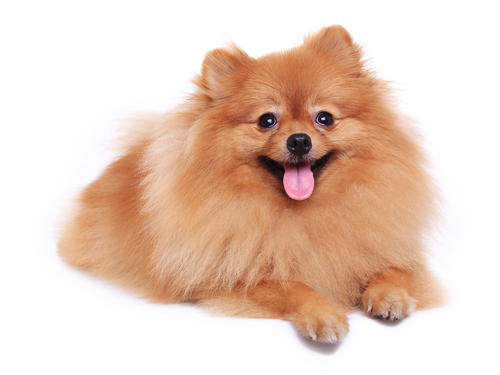dog: (194, 21, 382, 222)
